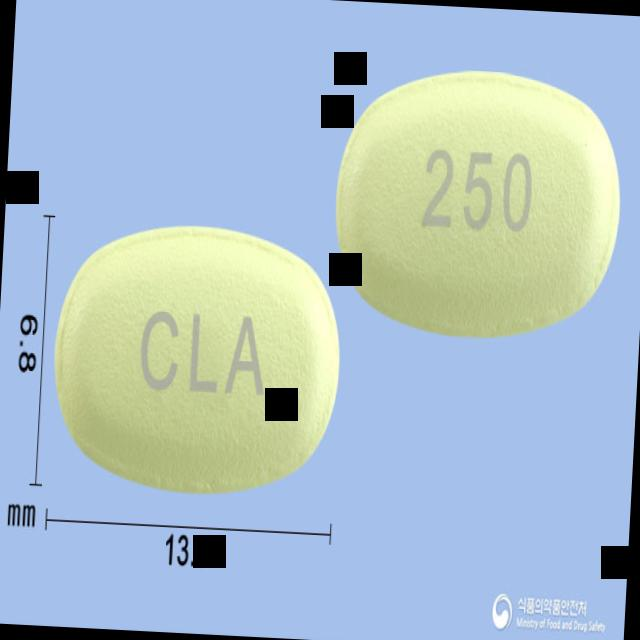Clar - 500mg: (45, 207, 352, 506), (326, 55, 634, 348)
